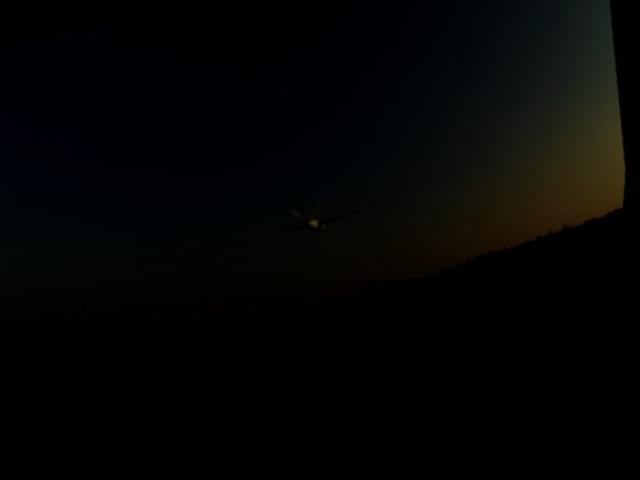uav: (267, 189, 374, 259)
